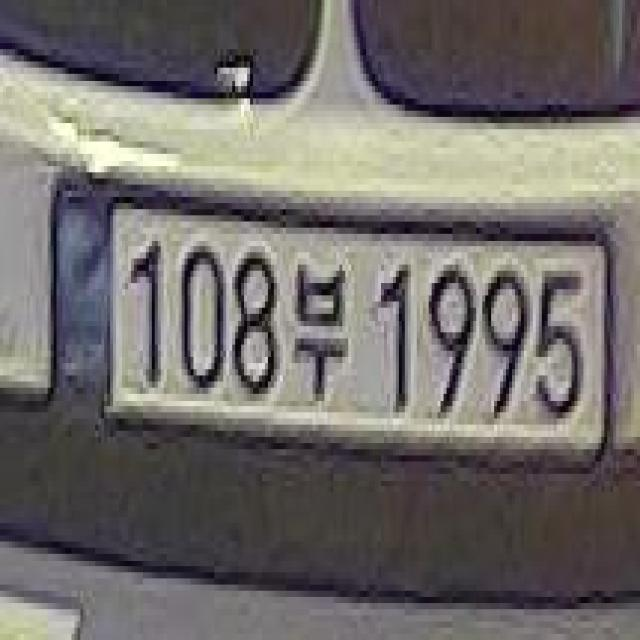illegal_plate: (55, 173, 614, 480)
